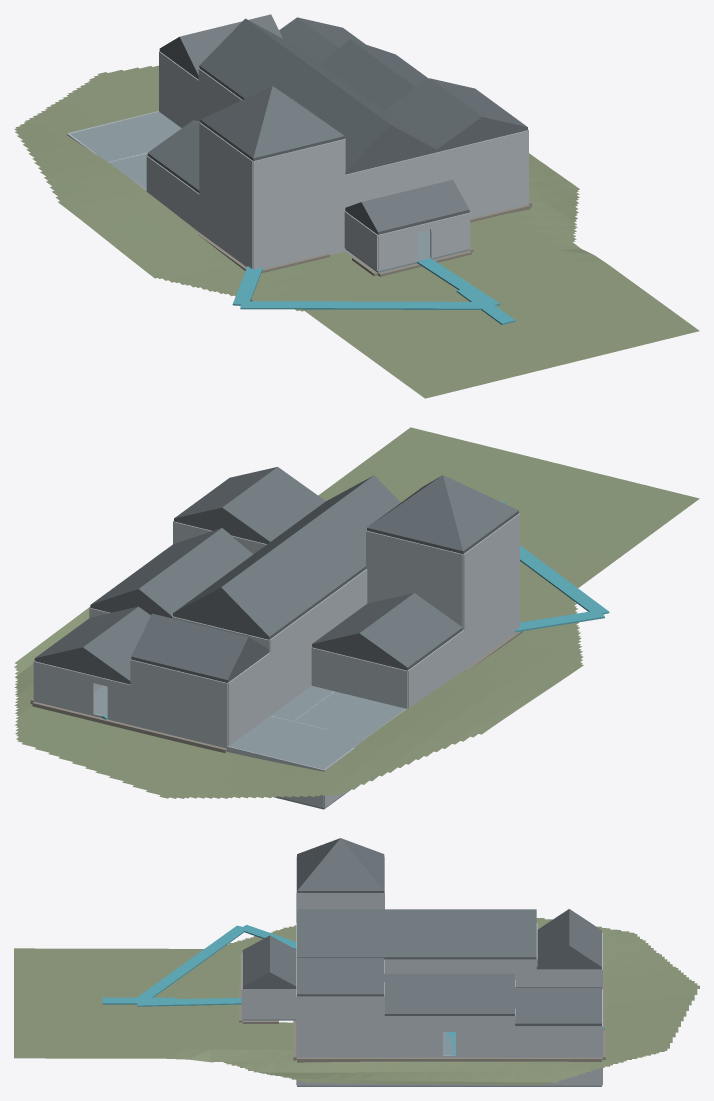
Rendered from enclosed-roofs.glb.
The picture shows the model from 3 angles, top to bottom: view 1: azimuth 30°, elevation 25°; view 2: azimuth 150°, elevation 25°; view 3: azimuth 270°, elevation 25°; orthographic projection. The views are drawn at different scales.
Visible parts, largest first — view 1: Saved editor macroterrain CHURCH, nave-and-choir roof west, music-and-crypt-entry roof west, vestibule roof south, Wall belfry S, belfry hip face 2, Wall tower-stair S, side-chapel roof west, belfry hip face 3, Wall crypt-entry S, Ceiling cap vault-north, Wall chancel W (+32 smaller); view 2: Saved editor macroterrain CHURCH, nave-and-choir roof west, Wall chancel N, chancel roof north, side-chapel roof west, confessional-and-consultation roof west, Wall nave W, music-and-crypt-entry roof west, Wall belfry N, belfry hip face 0, Wall chancel W, belfry hip face 3 (+33 smaller); view 3: Saved editor macroterrain CHURCH, nave-and-choir roof east, side-chapel roof east, vestry roof east, music-and-crypt-entry roof east, Wall crypt-entry E, belfry hip face 1, Wall chapel E, Wall chapel E.001, Wall vestibule E, Wall nave E, Wall belfry E (+21 smaller).
Boxes of the visible parts, x1,y1,x2,y2 form: Saved editor macroterrain CHURCH: [14, 65, 699, 398]; nave-and-choir roof west: [199, 18, 390, 173]; music-and-crypt-entry roof west: [384, 78, 482, 150]; vestibule roof south: [361, 180, 469, 234]; Wall belfry S: [253, 139, 345, 197]; belfry hip face 2: [253, 86, 344, 160]; Wall tower-stair S: [253, 175, 345, 233]; side-chapel roof west: [320, 39, 415, 110]; belfry hip face 3: [200, 86, 272, 160]; Wall crypt-entry S: [456, 166, 528, 216]; Ceiling cap vault-north: [70, 111, 181, 152]; Wall chancel W: [159, 51, 198, 127]; Saved editor macroterrain CHURCH: [14, 427, 699, 798]; nave-and-choir roof west: [221, 475, 400, 639]; Wall chancel N: [130, 659, 227, 746]; chancel roof north: [131, 613, 248, 682]; side-chapel roof west: [138, 528, 253, 618]; confessional-and-consultation roof west: [359, 593, 462, 670]; Wall nave W: [269, 592, 335, 715]; music-and-crypt-entry roof west: [222, 467, 325, 542]; Wall belfry N: [366, 531, 463, 592]; belfry hip face 0: [367, 475, 463, 553]; Wall chancel W: [227, 652, 270, 746]; belfry hip face 3: [443, 475, 518, 553]; Saved editor macroterrain CHURCH: [14, 918, 699, 1084]; nave-and-choir roof east: [297, 909, 536, 959]; side-chapel roof east: [384, 973, 514, 1015]; vestry roof east: [515, 987, 601, 1025]; music-and-crypt-entry roof east: [297, 958, 384, 996]; Wall crypt-entry E: [297, 1026, 384, 1055]; belfry hip face 1: [297, 838, 384, 892]; Wall chapel E: [456, 1016, 514, 1055]; Wall chapel E.001: [384, 1016, 442, 1055]; Wall vestibule E: [242, 989, 296, 1019]; Wall nave E: [456, 959, 536, 986]; Wall belfry E: [297, 893, 384, 909].
Size of the model in its own units: 36 by 15.9 by 63.
